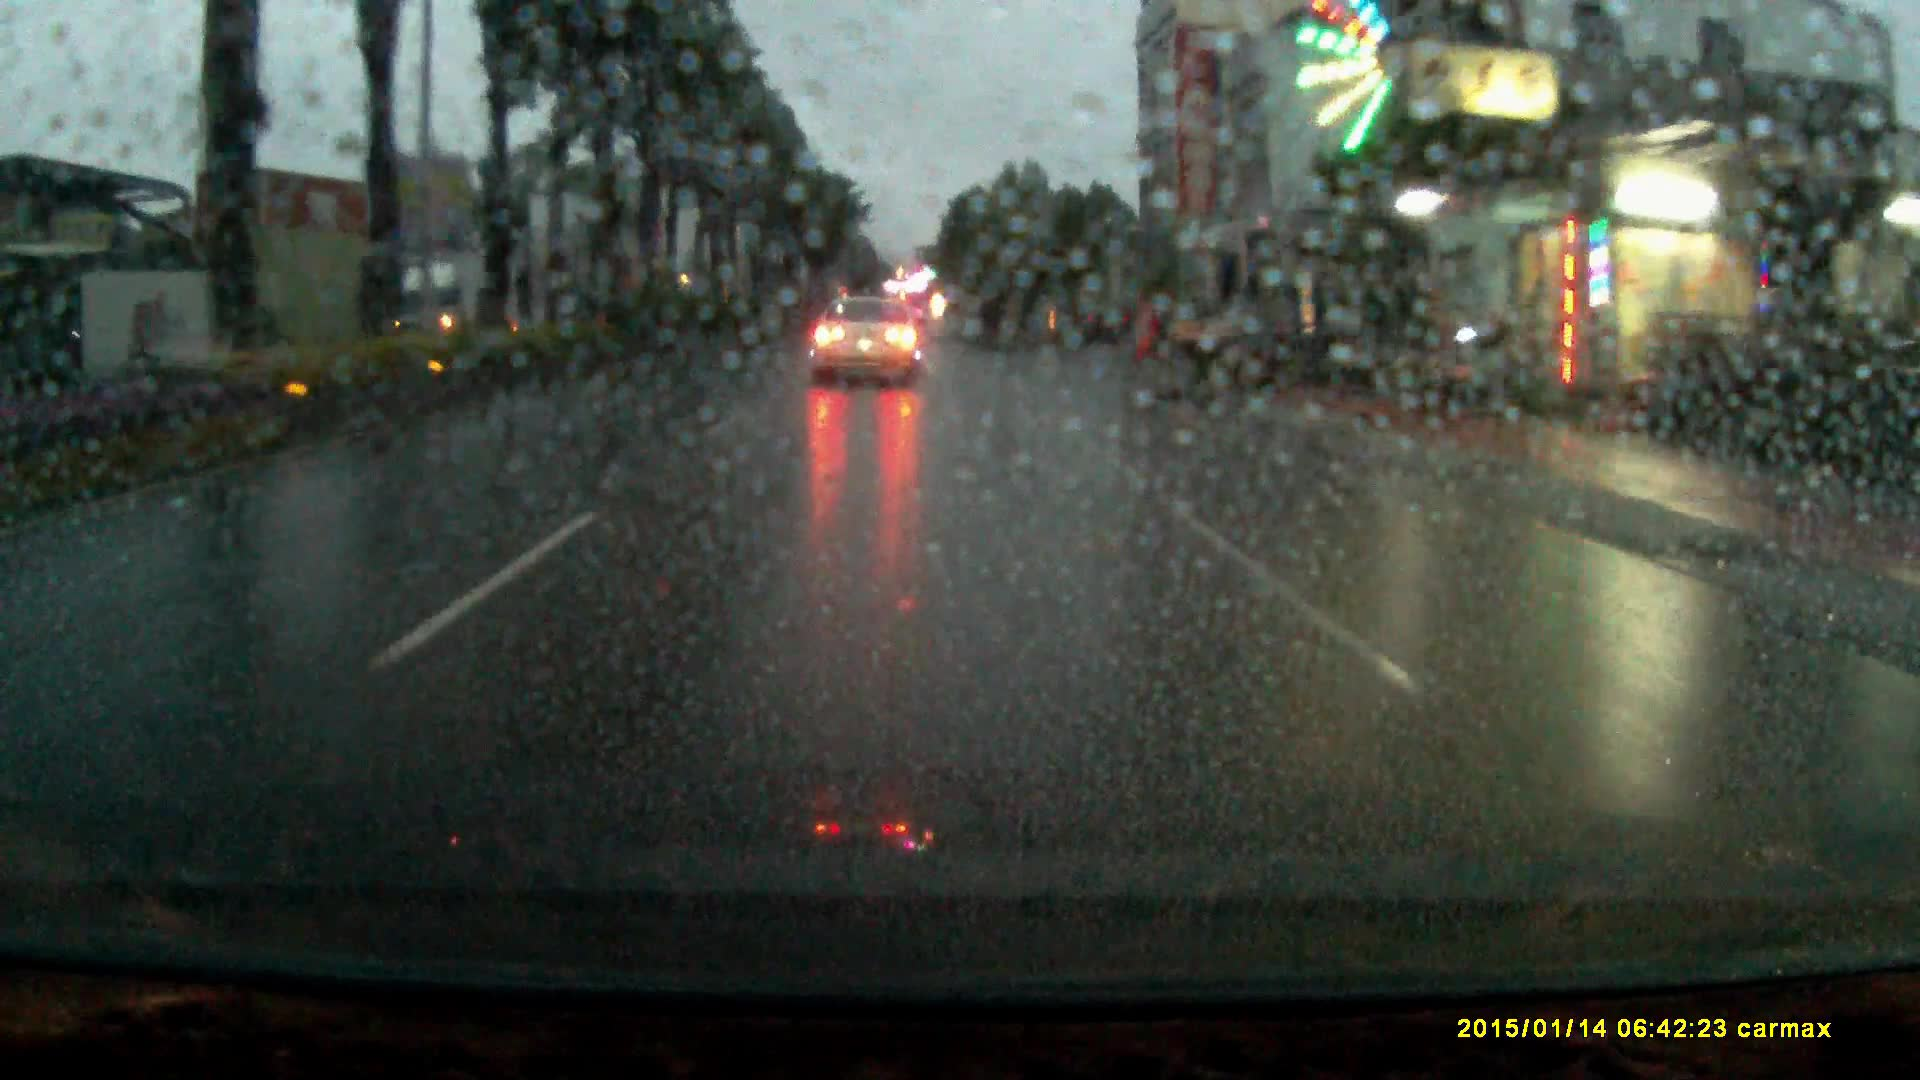vehicle: (812, 295, 919, 392), (405, 253, 520, 332), (1056, 295, 1131, 344)
